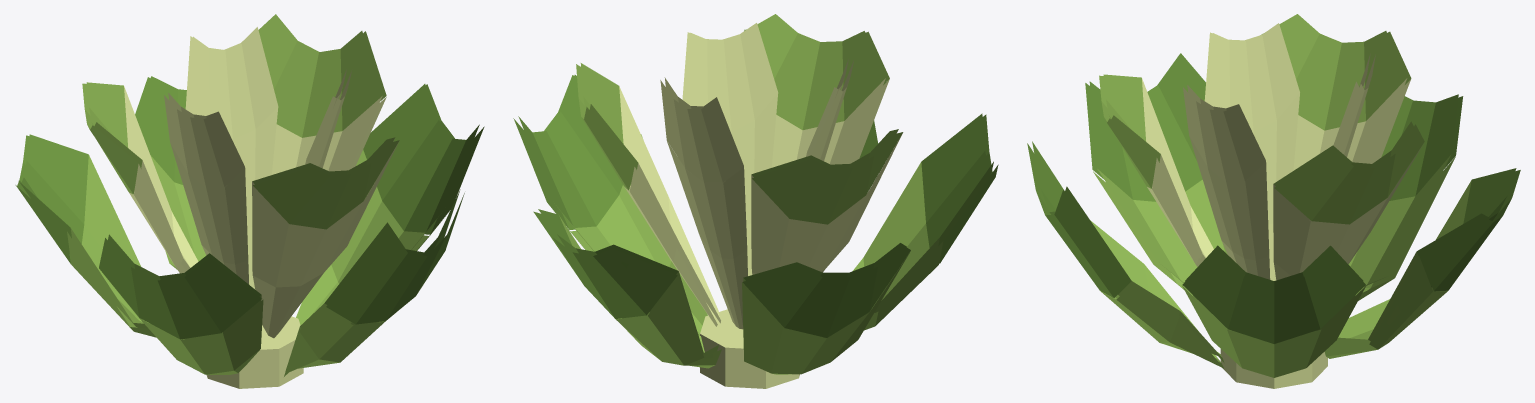
The model's file is FD_Lettuce_01.glb.
3 renders of one model, left to right at view 1: azimuth 30°, elevation 25°; view 2: azimuth 150°, elevation 25°; view 3: azimuth 270°, elevation 25°, orthographic. The views are drawn at different scales.
Visible parts, largest first — view 1: FD_Lettuce_01; view 2: FD_Lettuce_01; view 3: FD_Lettuce_01.
Boxes of the visible parts, x1,y1,x2,y2 form: FD_Lettuce_01: [15, 14, 484, 388]; FD_Lettuce_01: [513, 14, 998, 388]; FD_Lettuce_01: [1027, 14, 1520, 388].
Bounding box in the file's own units: 0.175 × 0.1263 × 0.1838.
Materials: 1 (1 with a texture image).
